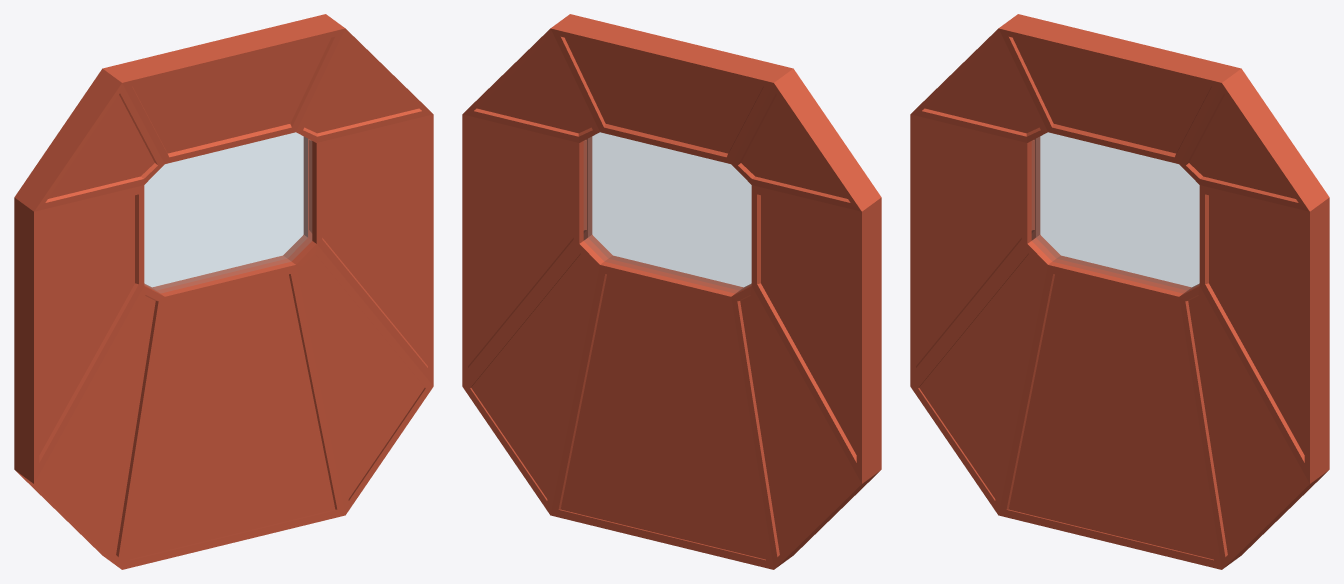
Rendered from vrata_otvaranje.fbx.
The picture shows the model from 3 angles, left to right: view 1: azimuth 30°, elevation 25°; view 2: azimuth 150°, elevation 25°; view 3: azimuth 330°, elevation 25°; orthographic projection.
Parts seen in each view (by area): view 1: Cube; view 2: Cube; view 3: Cube.
Part boxes in pixels (<box>): Cube: <box>14,14,433,569</box>; Cube: <box>462,14,881,569</box>; Cube: <box>910,14,1329,569</box>.
Size of the model in its own units: 525 by 612 by 44.85.
